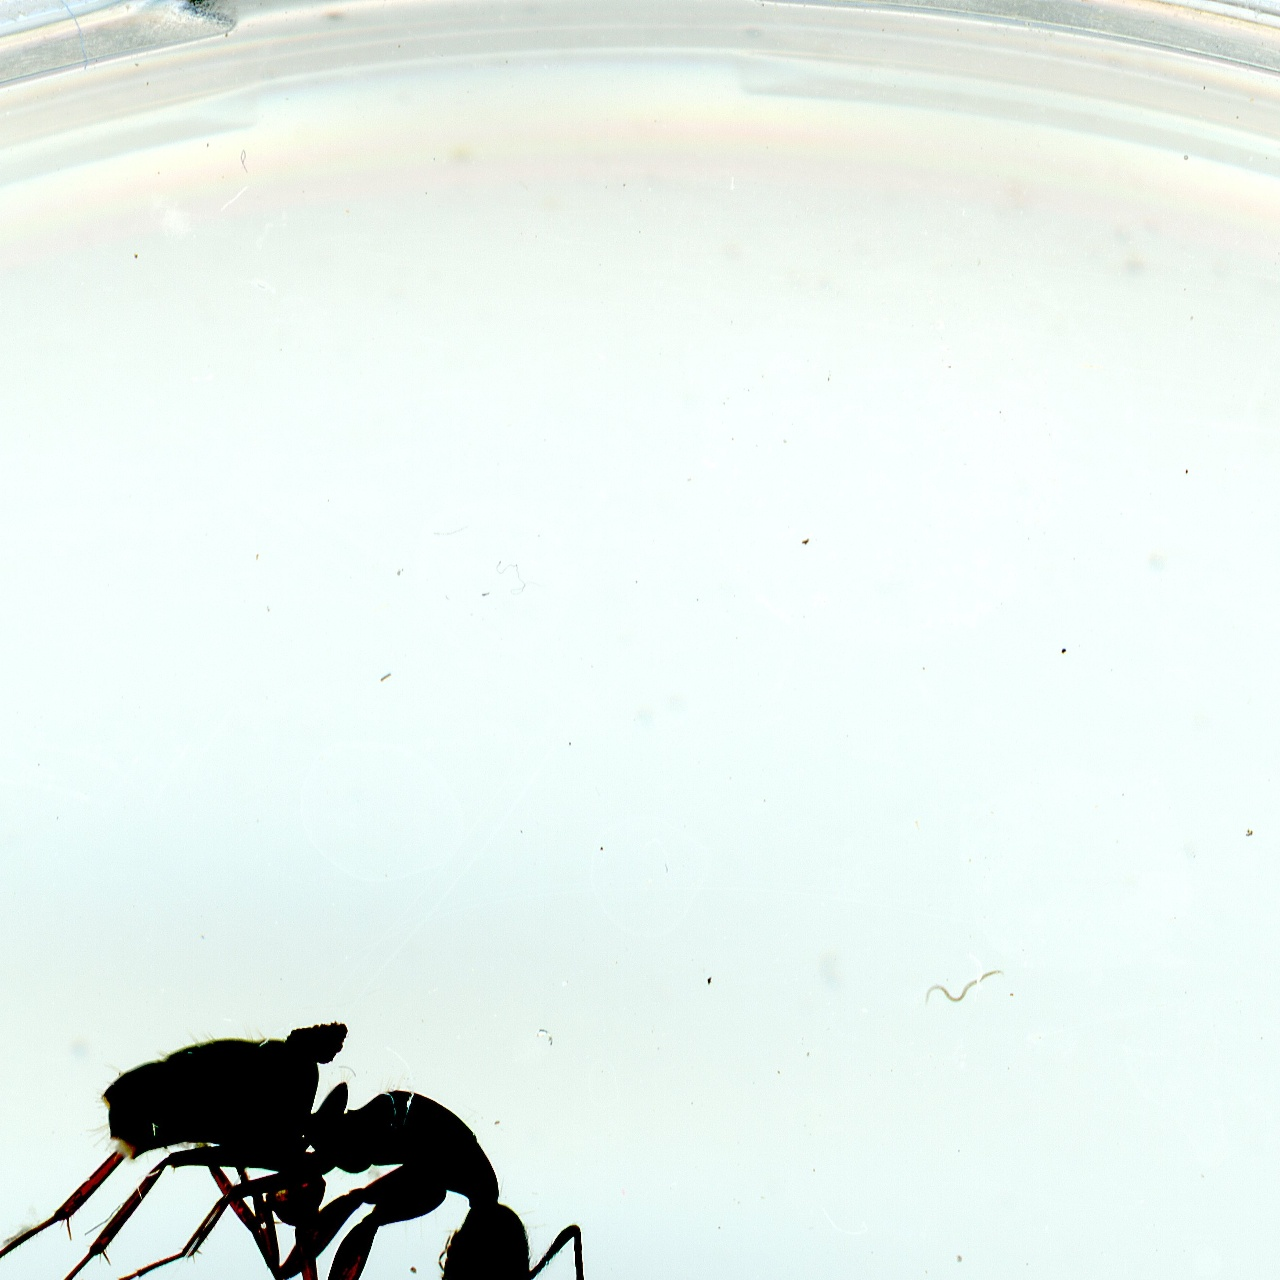arthropod: (0, 1007, 621, 1280)
